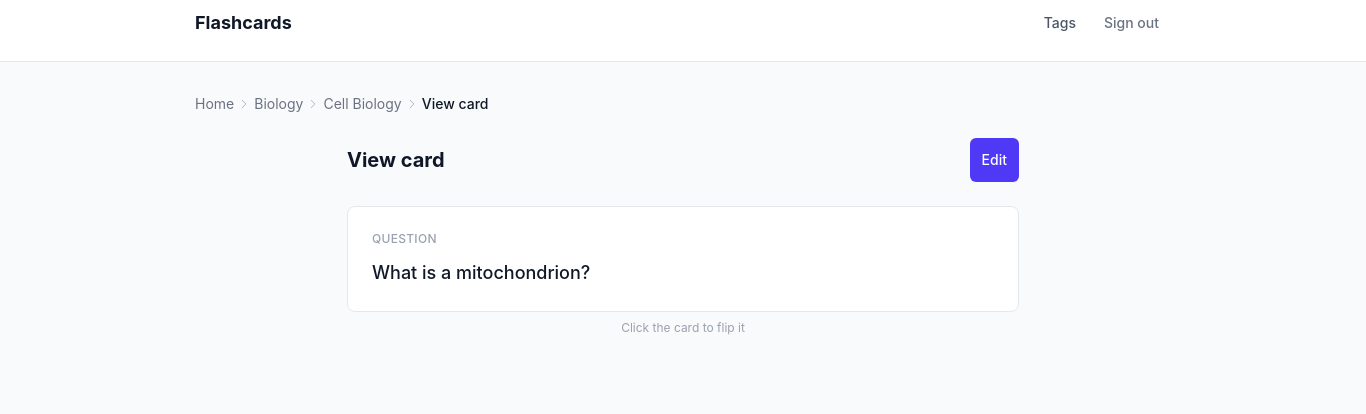
Test: reports missing answer data as an error and retries without flipping back
Click the button with aria-label "Flip card". click: (683, 259)
box: [347,206,1019,312]
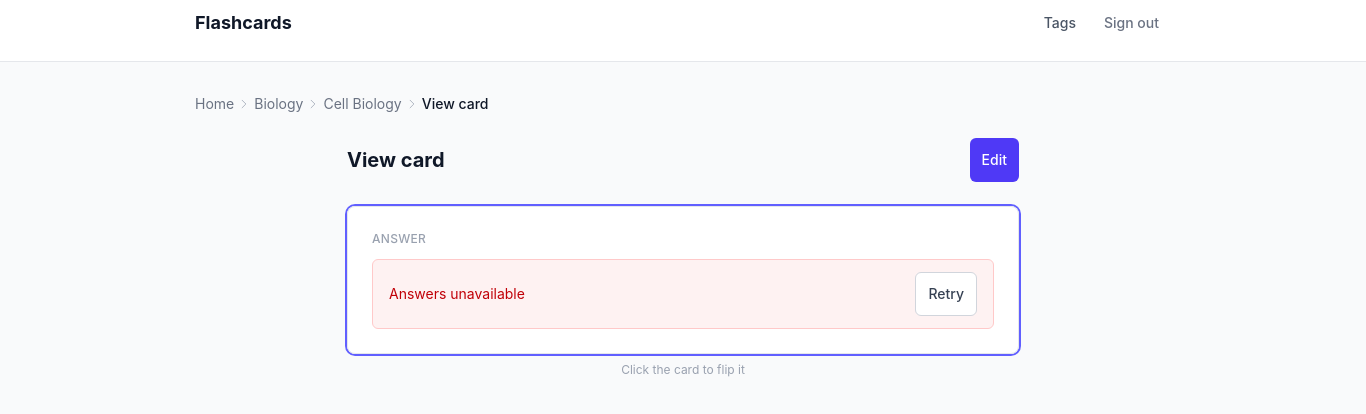
Expected: the message shows "Answers unavailable", [389,285,525,302]
Click the button "Retry". click: (946, 294)
box: [915,272,977,316]
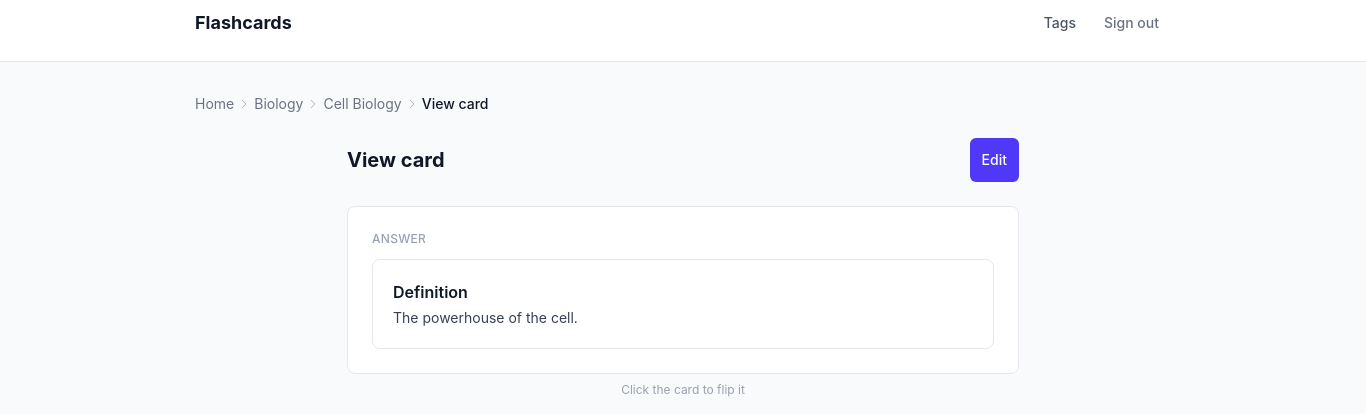
Expected: the text "The powerhouse of the cell." is shown, [393,309,578,326]
